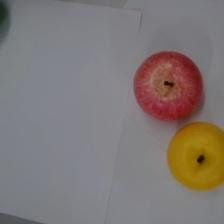red: (132, 50, 203, 121)
yellow: (166, 120, 224, 192)
